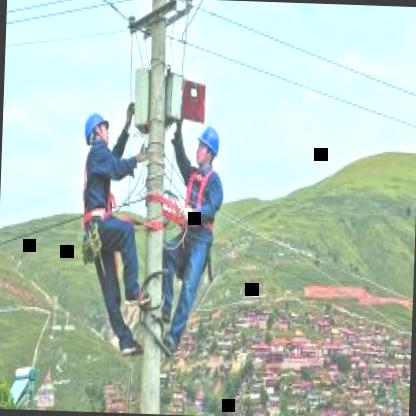helmet: (195, 120, 223, 172), (83, 108, 113, 150)
